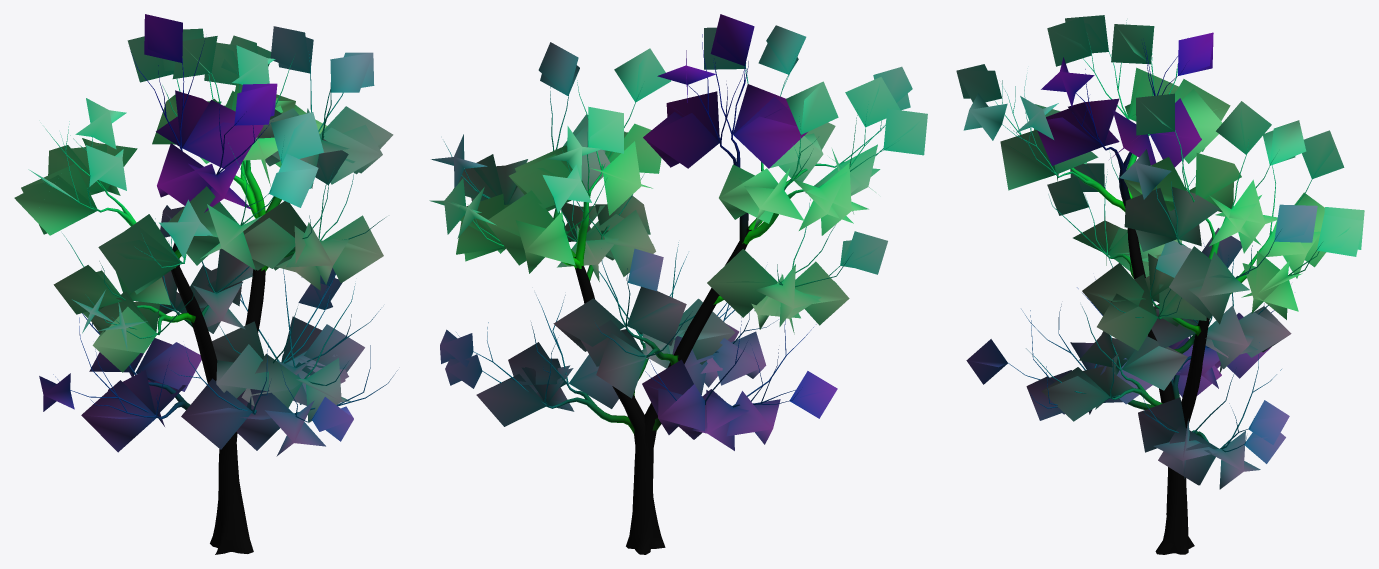
Rendered from Tree2.fbx.
3 views of the same model, side by side, from view 1: azimuth 30°, elevation 25°; view 2: azimuth 150°, elevation 25°; view 3: azimuth 270°, elevation 25° (orthographic). The views are drawn at different scales.
Visible parts, largest first — view 1: Leaves, Tree; view 2: Leaves, Tree; view 3: Leaves, Tree.
Boxes of the visible parts, x1=… form: Leaves: x1=14, y1=14, x2=393, y2=456; Tree: x1=43, y1=38, x2=397, y2=554; Leaves: x1=429, y1=14, x2=927, y2=450; Tree: x1=444, y1=34, x2=894, y2=554; Leaves: x1=956, y1=15, x2=1364, y2=489; Tree: x1=995, y1=20, x2=1322, y2=554.
Bounding box in the file's own units: 13.94 × 12.89 × 17.18.
